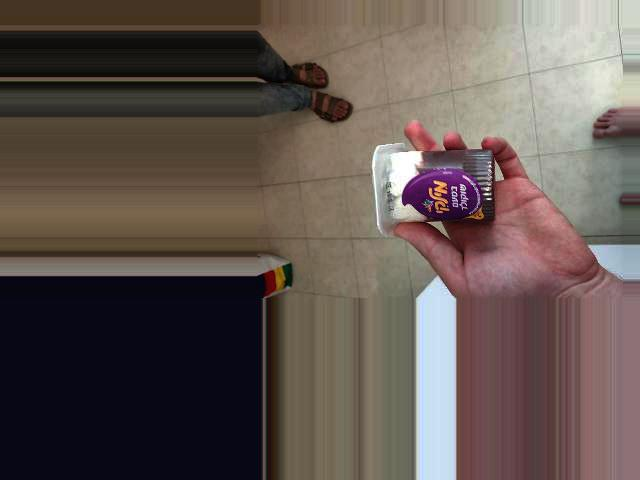milky: (388, 144, 499, 223)
